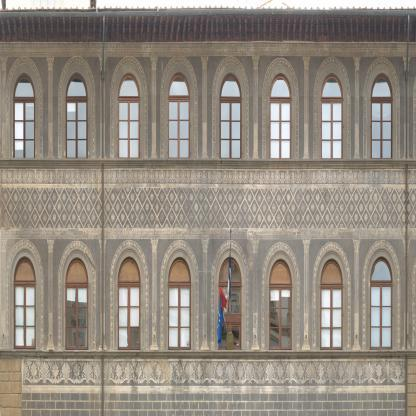Building Outline: (0, 0, 416, 416)
Facade: (0, 8, 416, 416)
Floor: (0, 221, 416, 391), (0, 399, 416, 416)
Floor Slab: (0, 392, 416, 399), (0, 214, 416, 221)
Molding: (0, 160, 416, 238), (0, 13, 416, 57), (22, 358, 407, 392)
Pillar: (402, 239, 411, 350), (150, 239, 159, 350), (98, 239, 107, 350), (251, 239, 260, 350), (352, 239, 361, 350), (46, 239, 55, 350), (402, 56, 411, 158), (149, 56, 158, 158), (98, 56, 107, 158), (200, 56, 209, 158), (251, 56, 260, 158), (302, 239, 310, 350), (201, 239, 209, 350), (302, 56, 310, 158), (353, 56, 361, 158), (46, 56, 54, 158), (0, 239, 7, 350), (0, 56, 7, 158)
Roof: (0, 0, 328, 13)
Top Floor: (0, 44, 416, 214)
Window: (370, 256, 393, 350), (65, 257, 88, 350), (168, 257, 191, 350), (219, 257, 242, 350), (269, 258, 292, 350), (320, 258, 343, 350), (14, 256, 36, 350), (118, 257, 140, 350), (168, 72, 191, 158), (269, 73, 292, 159), (371, 73, 393, 159), (66, 72, 88, 158), (118, 73, 140, 159), (220, 73, 242, 159), (321, 73, 343, 159), (13, 73, 35, 158)
